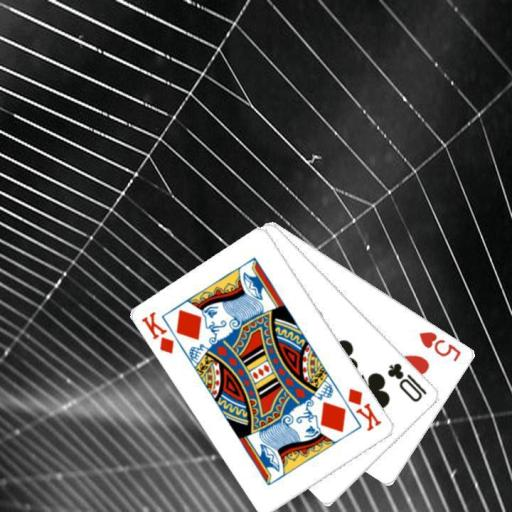card-corner: (384, 359, 429, 404), (345, 385, 383, 433), (139, 308, 176, 356), (416, 328, 464, 363)
